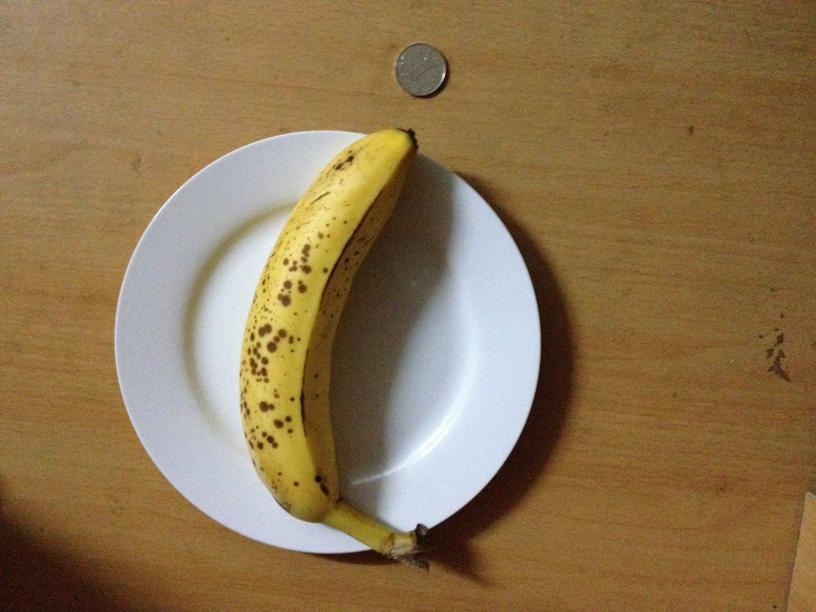banana: (235, 126, 423, 558)
coin: (392, 39, 451, 99)
